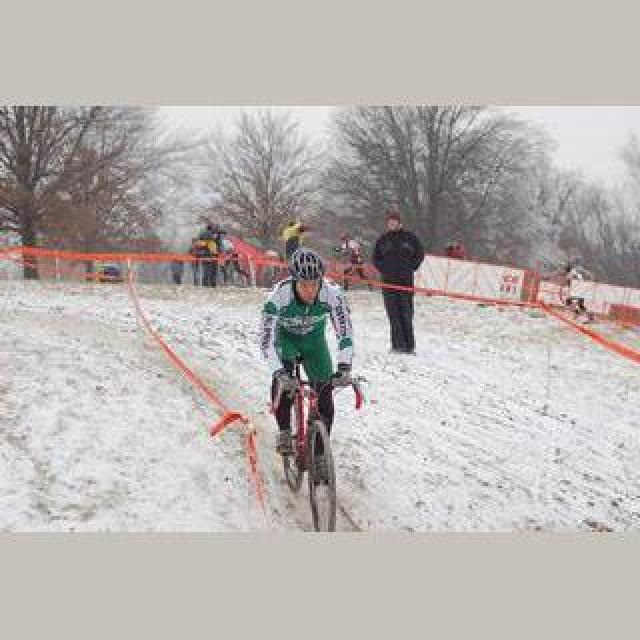MC-Bike: (256, 246, 358, 498), (368, 206, 426, 356)
Person: (266, 368, 364, 532)
